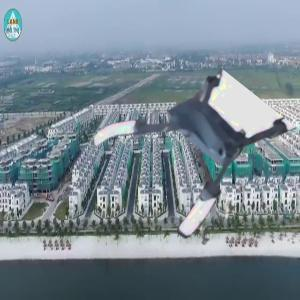drone: (101, 61, 267, 227)
